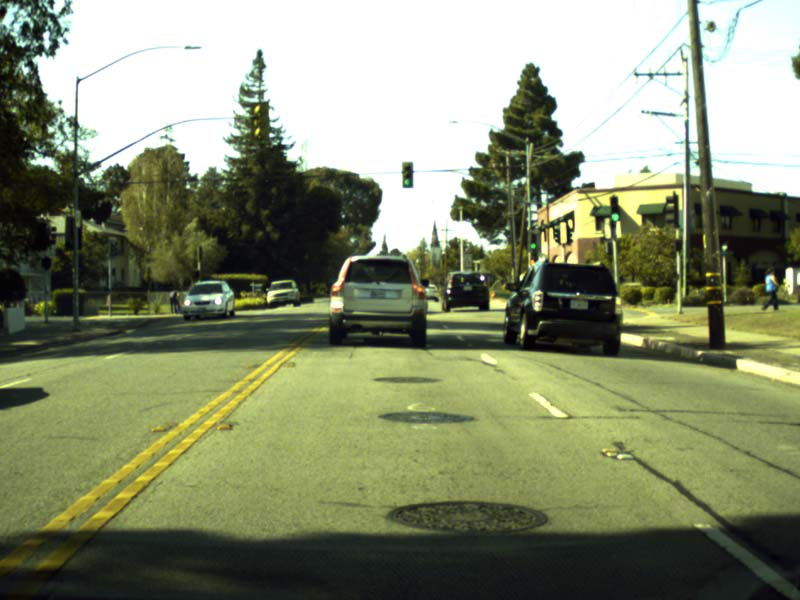Green: (402, 162, 412, 187), (610, 198, 619, 221), (530, 233, 536, 249)
